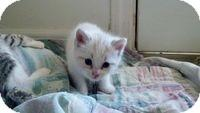siamese: (71, 27, 131, 85)
